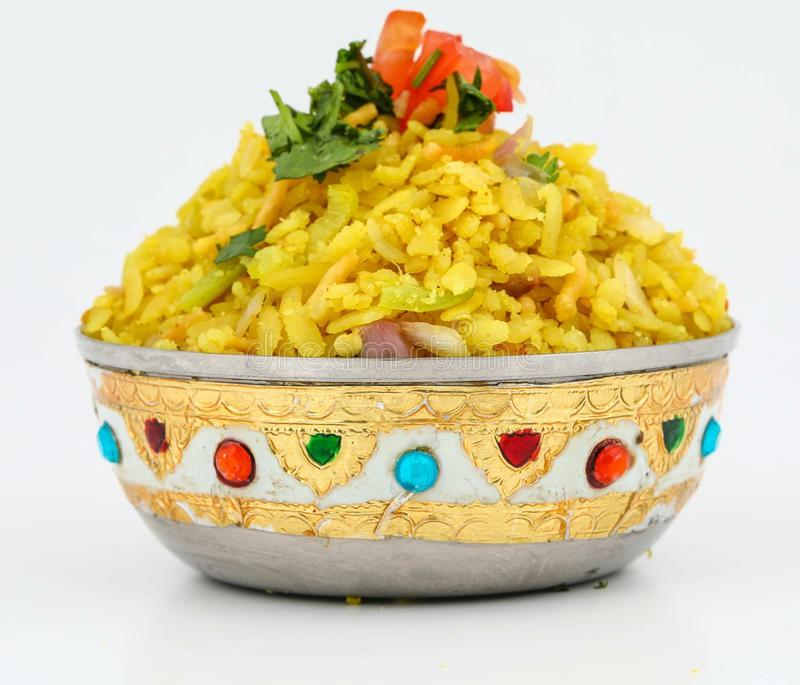Poha: (78, 13, 737, 353)
